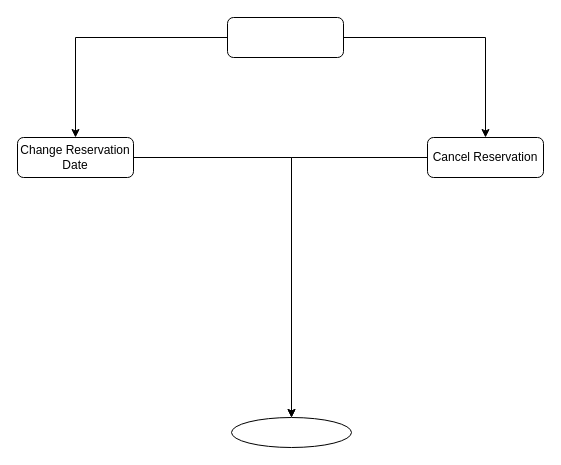
This 561x465 diagram has some shape labels left out. The shapes that lost their labels are listed below. From the top down, each one's centre as x and y in pixels, then its label:
(x=285, y=37): See reservation List
(x=291, y=432): End
